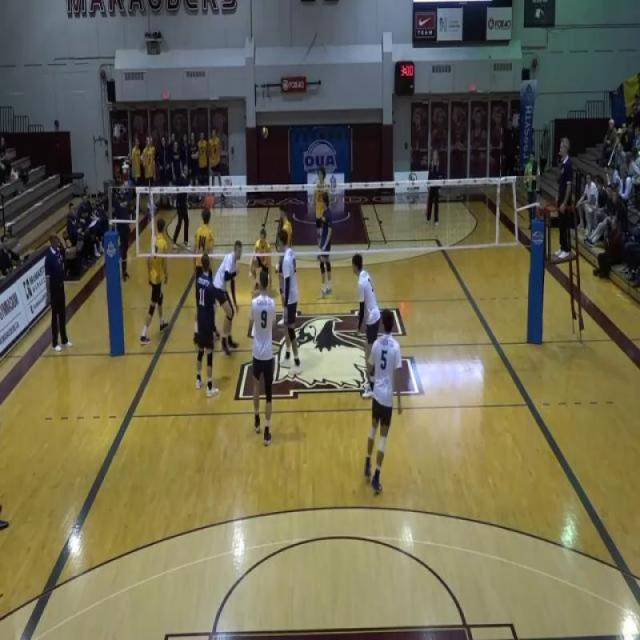volleyball: (262, 125, 268, 140), (524, 178, 530, 190)
